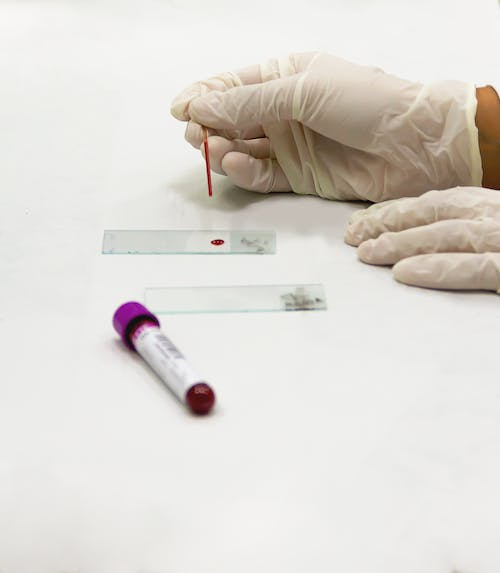blood: (110, 300, 216, 418), (201, 126, 214, 199), (209, 237, 226, 248)
